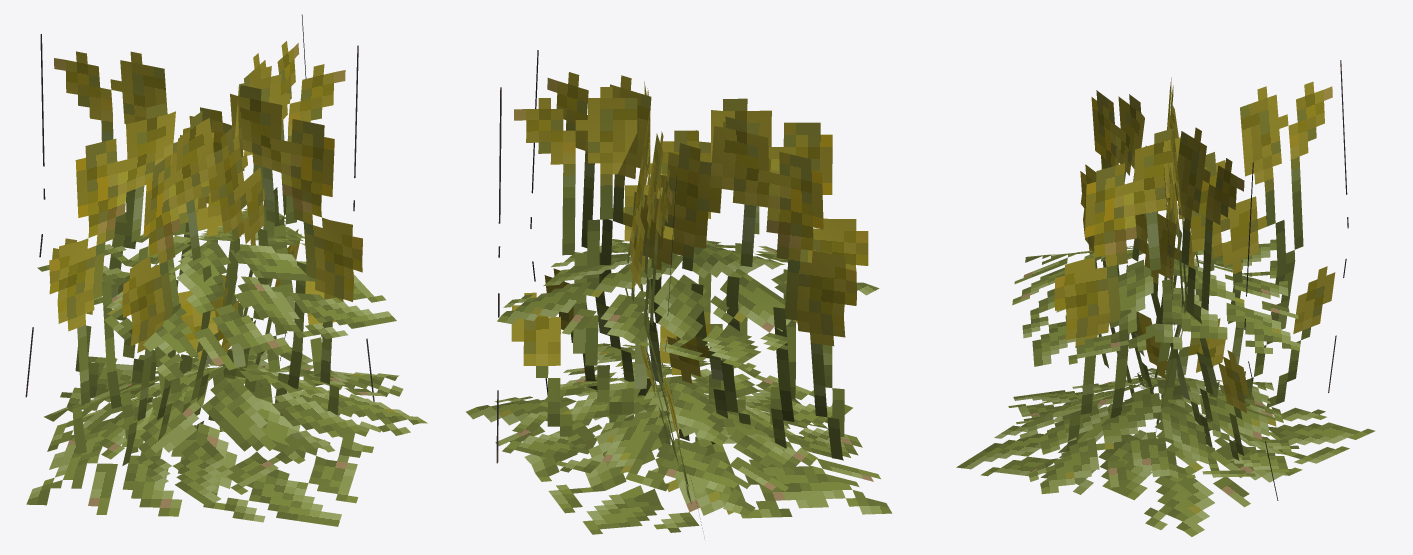
Rendered from flower_yellow.glb.
3 renders of one model, left to right at view 1: azimuth 30°, elevation 25°; view 2: azimuth 150°, elevation 25°; view 3: azimuth 270°, elevation 25°, orthographic. The views are drawn at different scales.
Parts seen in each view (by area): view 1: flower_yellow; view 2: flower_yellow; view 3: flower_yellow.
Part boxes in pixels (x1,y1,x2,y2): flower_yellow: (25,14,427,526); flower_yellow: (466,50,892,537); flower_yellow: (956,60,1374,536).
Size of the model in its own units: 0.8847 by 0.7712 by 0.8874.
1 material, 1 textured.
